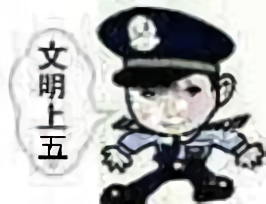dragon: (141, 84, 204, 129)
